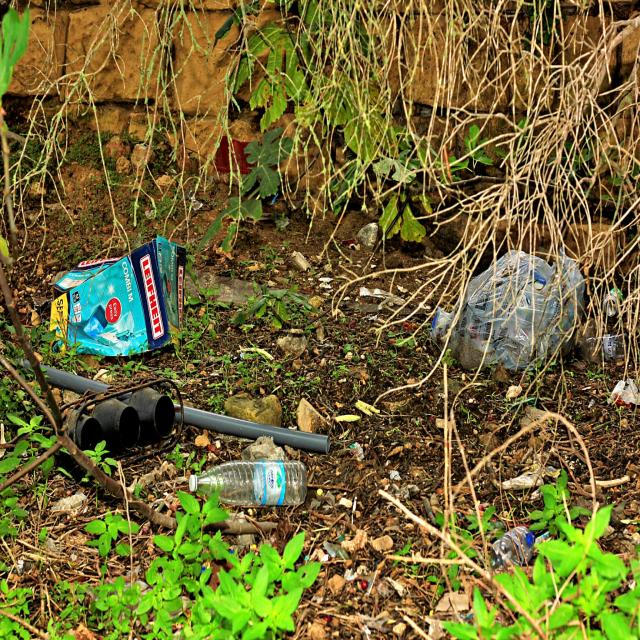Bottle: (189, 461, 308, 508), (491, 525, 551, 570), (574, 333, 629, 359)
Can: (603, 286, 624, 319)
Carton: (49, 233, 187, 358)
Other litter: (65, 378, 185, 462), (215, 137, 256, 175)
Other plastic: (174, 402, 331, 456), (18, 360, 108, 394), (608, 376, 640, 406)
Plastic bag - wrapper: (429, 242, 585, 373)
